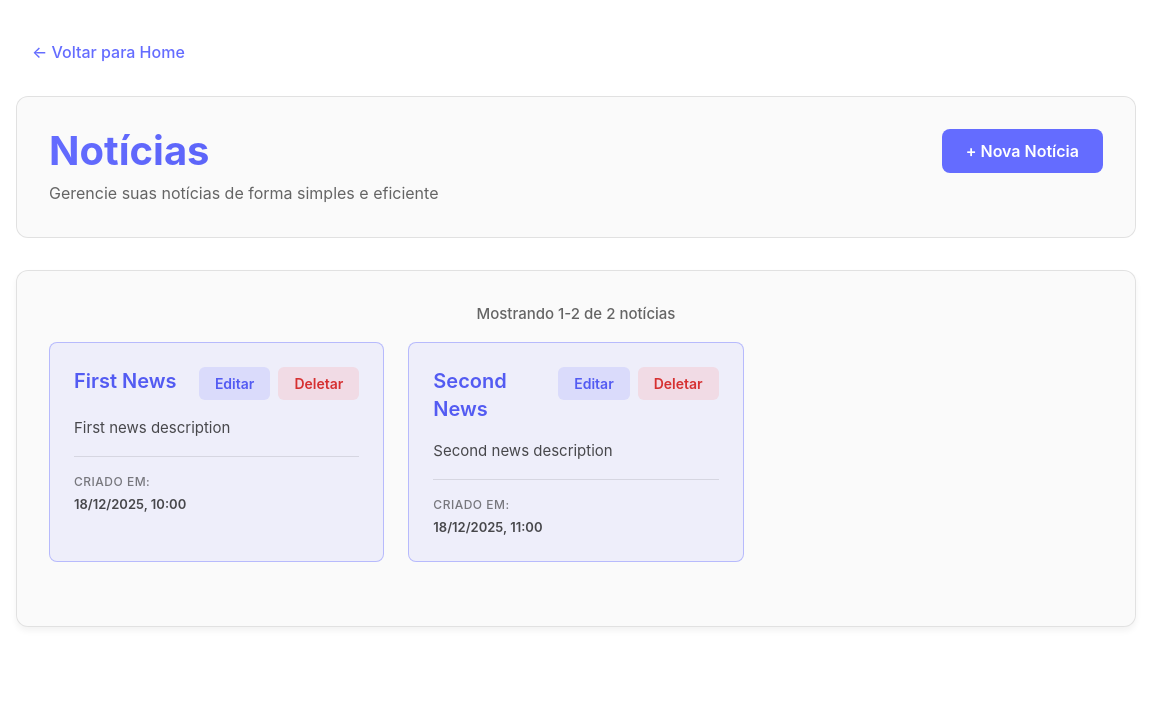
News Page › opens edit modal with news data when edit button is clicked
The image size is (1152, 720).
What coordinates should you click on to do the following:
click the 1st button "Editar"
I would click on:
 (235, 383)
Its box is [199,366,270,400].
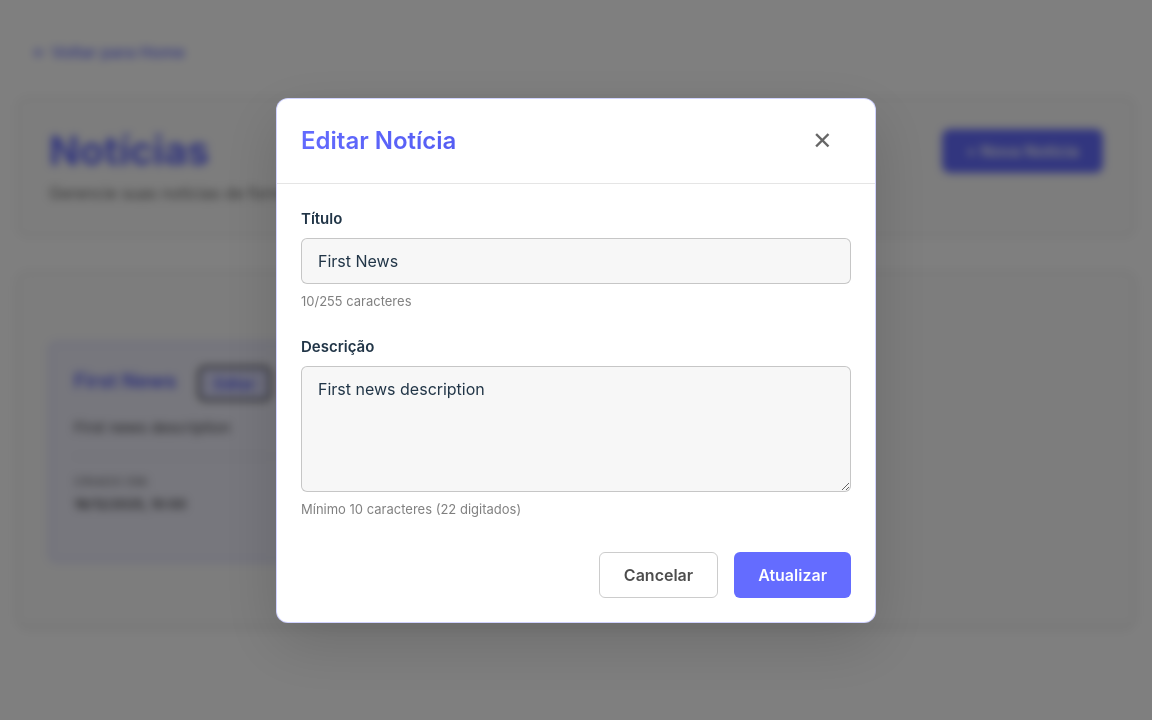
Check: the dialog is shown, box [276,98,876,622]
Check: the heading "Editar Notícia" is shown, box [301,122,456,158]
Check: the field showing "First News" is shown, box [301,238,851,284]
